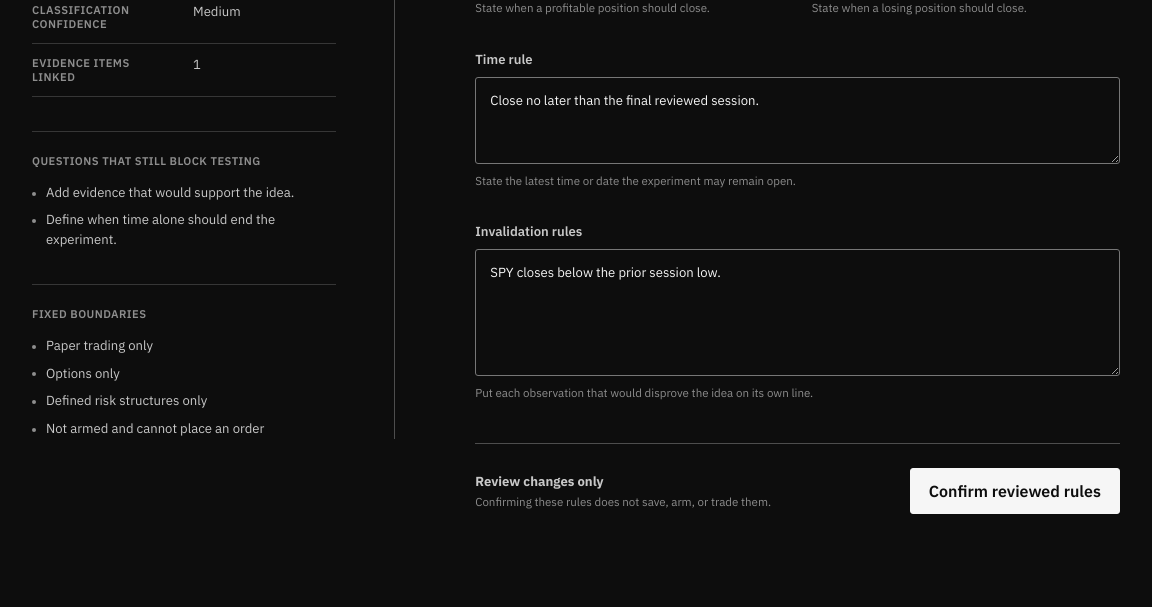
it: CuratedProtocolReview › focuses the first missing rule and explains how to fix it
(page scrolled)
Click the button "Confirm reviewed rules" at (1015, 491), box [910, 468, 1120, 514]
(page scrolled)
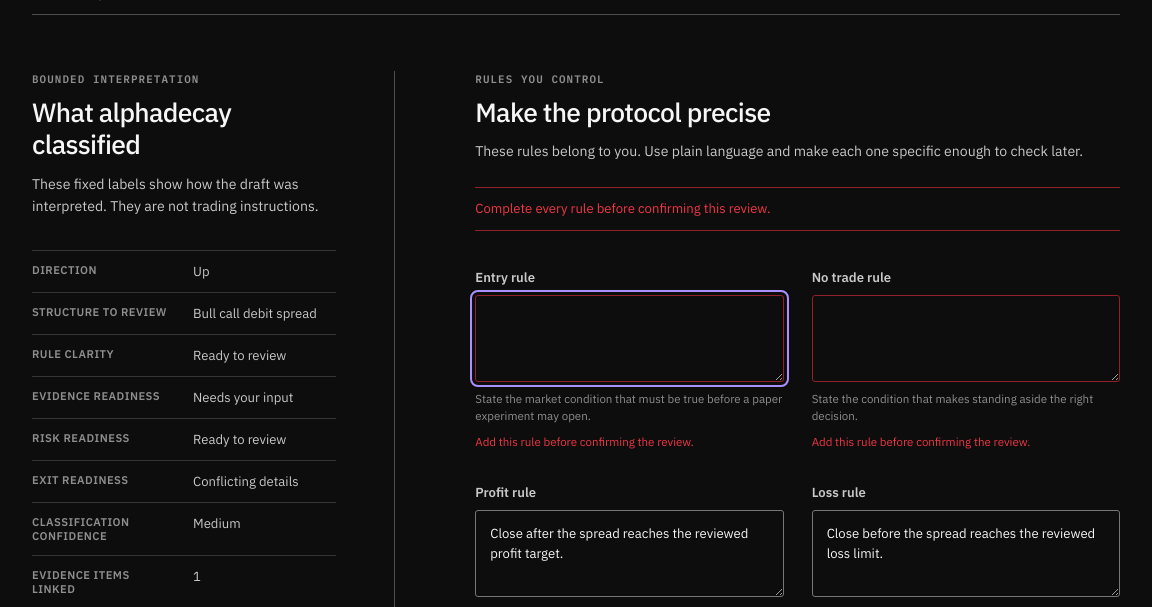
Expected: the message reads "Complete every rule before confirming this review.", [475, 200, 771, 217]
Expected: the text "Add this rule before confirming the review." is shown 2 times, [475, 434, 694, 449]; [812, 434, 1030, 449]
